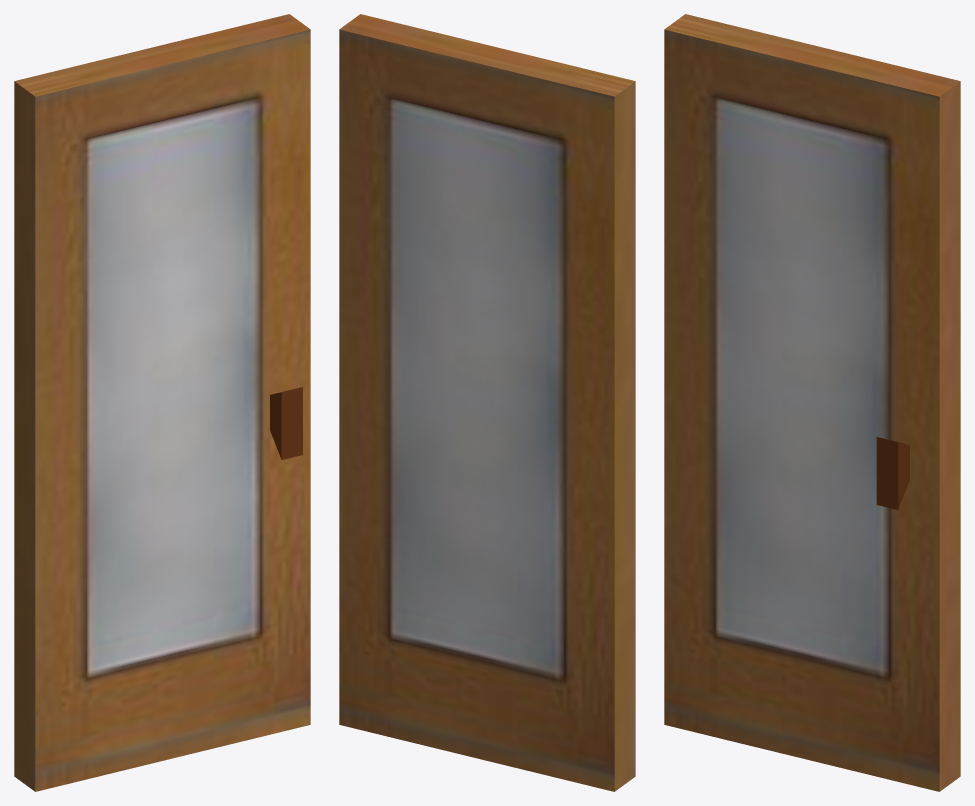
File: DoorSingleU.fbx
The picture shows the model from 3 angles, left to right: view 1: azimuth 30°, elevation 25°; view 2: azimuth 150°, elevation 25°; view 3: azimuth 330°, elevation 25°; orthographic projection.
Visible parts, largest first — view 1: Door_2m75, knobb; view 2: Door_2m75; view 3: Door_2m75, knobb.
Boxes of the visible parts, box(x1,y1,x2,y2) form: Door_2m75: box(14, 14, 310, 791); knobb: box(270, 387, 302, 459); Door_2m75: box(339, 14, 635, 791); Door_2m75: box(664, 14, 960, 791); knobb: box(876, 437, 909, 509).
Size of the model in its own units: 84.95 by 205 by 20.35.
2 materials, 1 textured.
